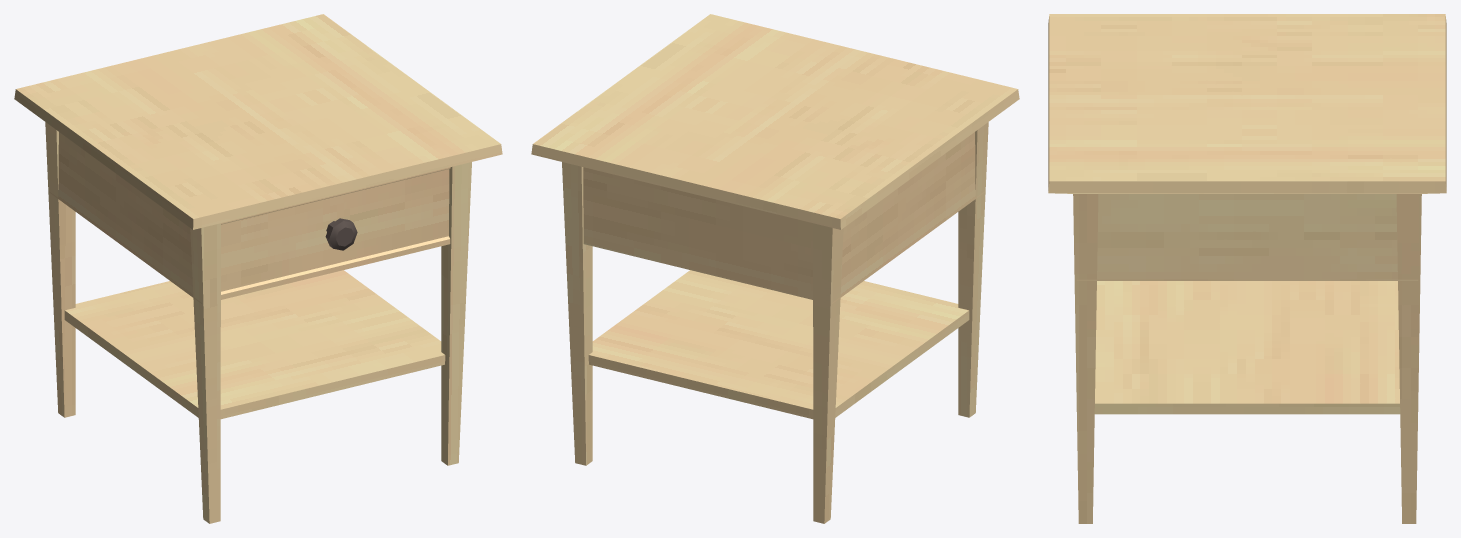
File: nightstand-washed-webp.glb
3 renders of one model, left to right at view 1: azimuth 30°, elevation 25°; view 2: azimuth 150°, elevation 25°; view 3: azimuth 270°, elevation 25°, orthographic. The views are drawn at different scales.
Visible parts, largest first — view 1: NightStand_2; view 2: NightStand_2; view 3: NightStand_2.
Part boxes in pixels (bbox=[...]): NightStand_2: bbox=[14, 14, 502, 523]; NightStand_2: bbox=[531, 14, 1019, 523]; NightStand_2: bbox=[1048, 14, 1446, 523].
Size of the model in its own units: 0.9522 by 0.9453 by 0.9522.
Materials: 2 (1 with a texture image).
